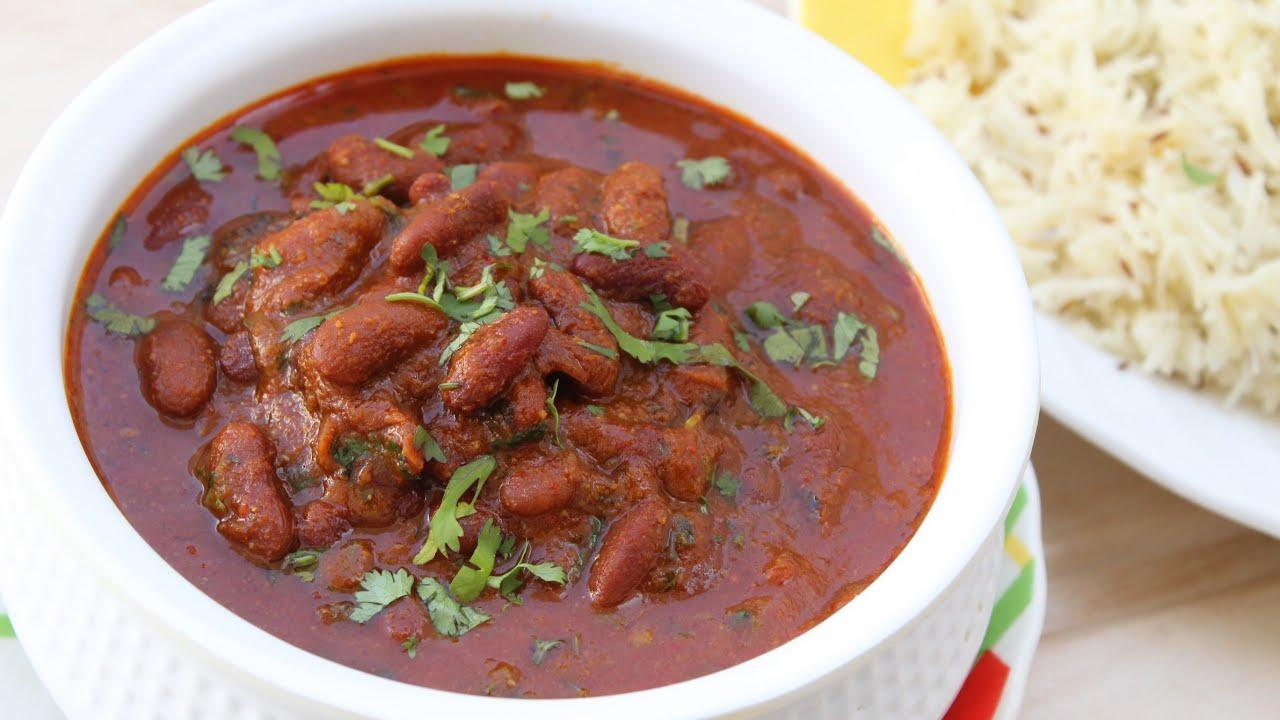rajma: (134, 92, 906, 632)
